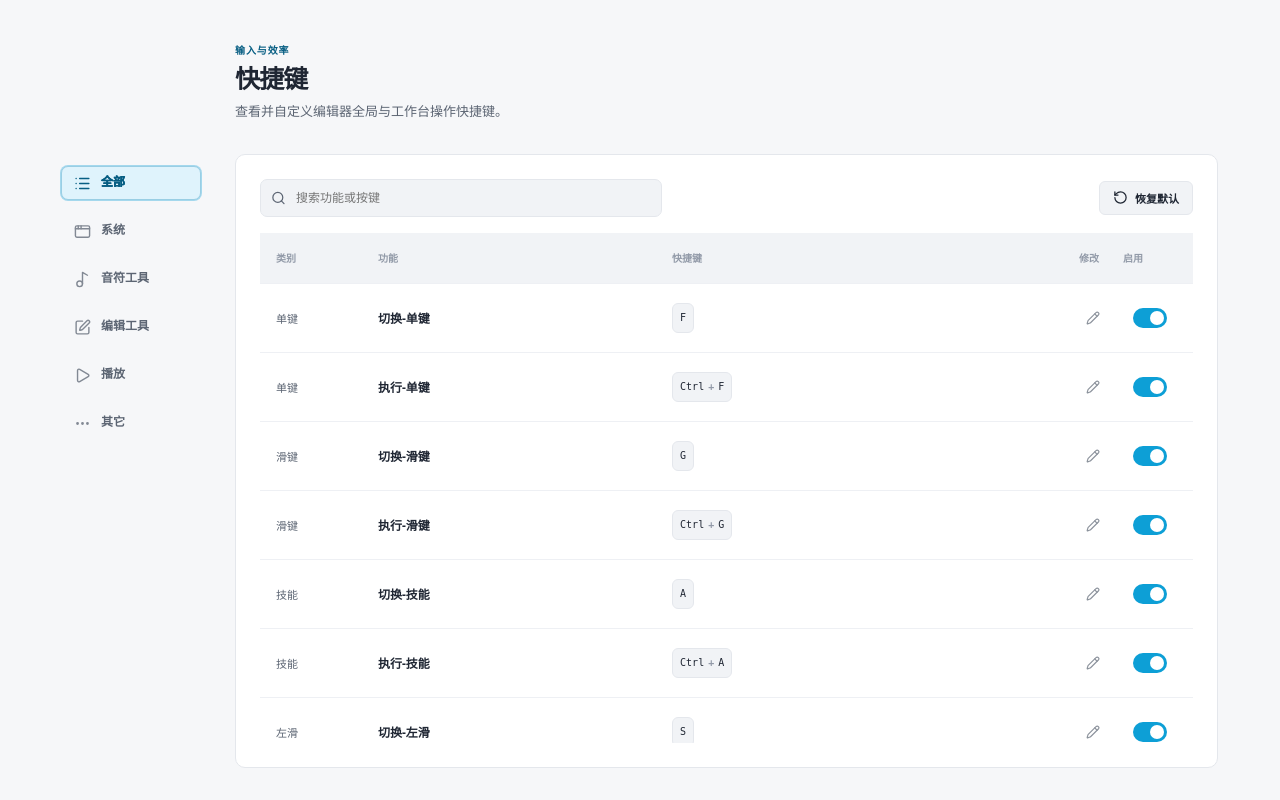
Test: issue 177/178 · 切页行、改键冲突与重新启用 › 切页七功能是普通可改行（不是只读系统行）：有编辑钮、显示默认 Alt+1
The image size is (1280, 800).
Click the button "系统" at (131, 230), box x1=61 y1=214 x2=201 y2=248
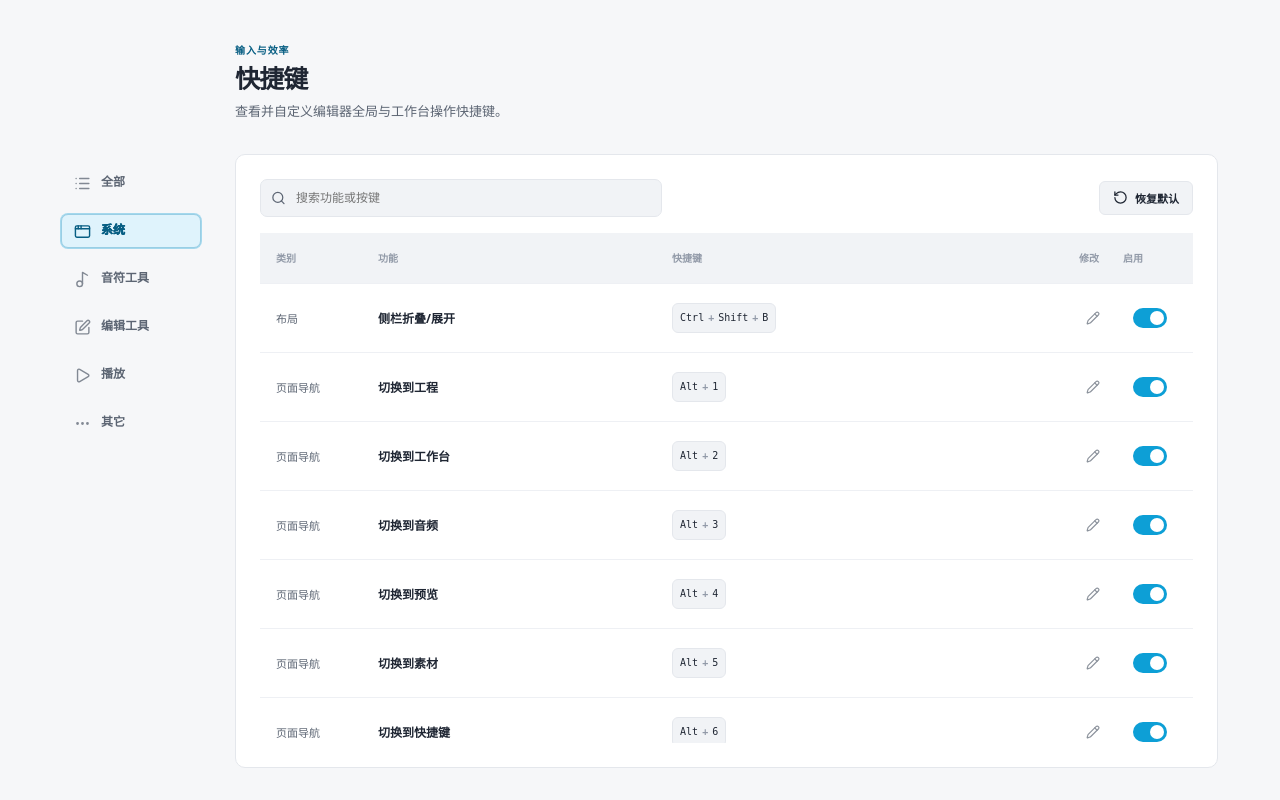
expect the button named "修改切换到工程的快捷键" is enabled: met, box x1=1079 y1=374 x2=1105 y2=400
expect the text "切换到工程" shows "Alt": met, box x1=672 y1=372 x2=726 y2=402
